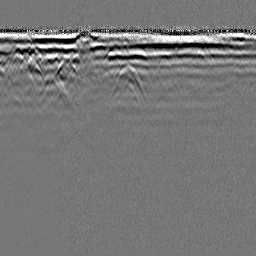cavity: (109, 63, 147, 99)
